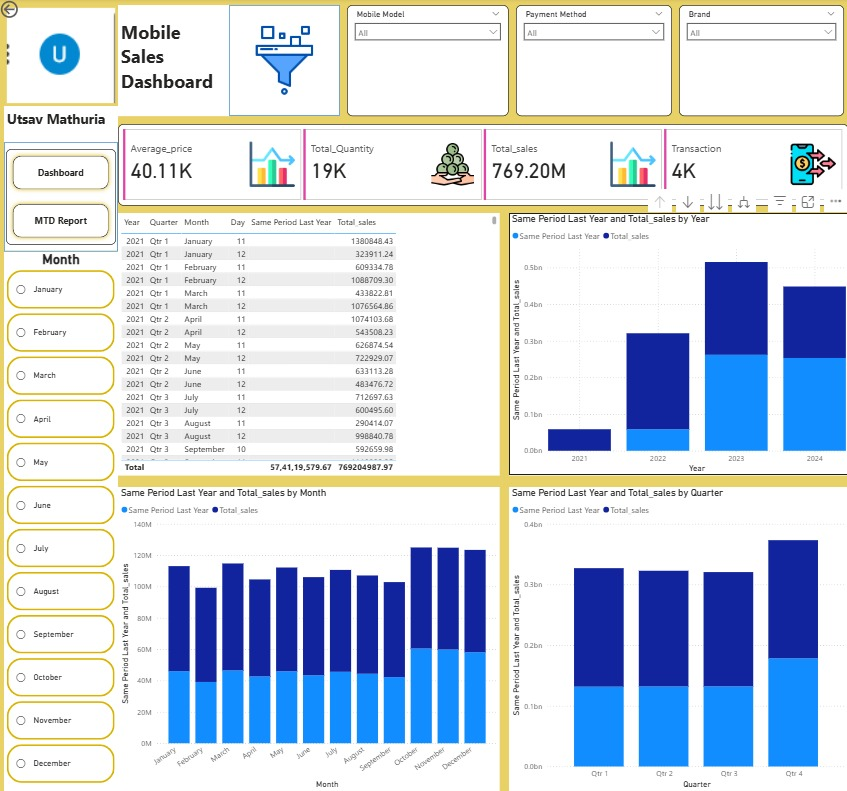

The dashboard page shown, as its layout file describes it:
{"tool":"powerbi","page":{"name":"Same Period Last Year","canvas":[1500,1400],"ordinal":2},"visuals":[{"type":"image","box":[10.8,12.6,201,177.6],"z":0},{"type":"textbox","box":[10.7,189.9,200.6,64.3],"z":1000},{"type":"shape","box":[10.7,254.2,200.6,192.9],"z":2000},{"type":"cardVisual","fields":{"Data":["Mobile_Sales_data.Average_price","Mobile_Sales_data.Total_Quantity","Mobile_Sales_data.Total_sales","Mobile_Sales_data.Transaction"]},"box":[211.7,222.5,1288.3,143.5],"z":3000},{"type":"textbox","box":[211.7,12.6,195.6,195.6],"z":4000},{"type":"shape","box":[407.3,12.6,195.6,195.6],"z":5000},{"type":"image","box":[428.8,43.1,152.5,134.6],"z":6000},{"type":"slicer","fields":{"Values":["Mobile_Sales_data.Mobile Model"]},"box":[615.4,12.6,285.3,195.6],"z":7000},{"type":"slicer","fields":{"Values":["Mobile_Sales_data.Payment Method"]},"box":[913.3,12.6,274.5,195.6],"z":8000},{"type":"slicer","fields":{"Values":["Mobile_Sales_data.Brand"]},"box":[1200.4,12.6,290.7,195.6],"z":9000},{"type":"advancedSlicerVisual","fields":{"Values":["Custom_Calender.Month"]},"box":[10.8,448.6,201,951],"z":10000},{"type":"tableEx","fields":{"Values":["Custom_Calender.Date.Variation.Date Hierarchy.Year","Custom_Calender.Date.Variation.Date Hierarchy.Quarter","Custom_Calender.Date.Variation.Date Hierarchy.Month","Custom_Calender.Date.Variation.Date Hierarchy.Day","Mobile_Sales_data.Same Period Last Year","Mobile_Sales_data.Total_sales"]},"box":[211.7,378.6,672.8,462.9],"z":11000},{"type":"actionButton","box":[0,0,100,40],"z":12000},{"type":"lineStackedColumnComboChart","fields":{"Category":["Custom_Calender.Date.Variation.Date Hierarchy.Year","Custom_Calender.Date.Variation.Date Hierarchy.Quarter","Custom_Calender.Date.Variation.Date Hierarchy.Month","Custom_Calender.Date.Variation.Date Hierarchy.Day"],"Y":["Mobile_Sales_data.Same Period Last Year","Mobile_Sales_data.Total_sales"]},"box":[900.7,378.6,599.3,462.9],"z":13000},{"type":"lineStackedColumnComboChart","fields":{"Category":["Custom_Calender.Date.Variation.Date Hierarchy.Month"],"Y":["Mobile_Sales_data.Same Period Last Year","Mobile_Sales_data.Total_sales"]},"box":[211.7,863,672.8,536.5],"z":14000},{"type":"lineStackedColumnComboChart","fields":{"Category":["Custom_Calender.Date.Variation.Date Hierarchy.Quarter"],"Y":["Mobile_Sales_data.Same Period Last Year","Mobile_Sales_data.Total_sales"]},"box":[900.7,863,599.3,536.5],"z":15000},{"type":"pageNavigator","box":[14.1,266.2,194,169.3],"z":16000}]}

Visuals, with their boxes on the page's 1500x1400 design canvas (x1, y1, x2, y2). These are canvas units, not pixel positions in the 847x791 screenshot, which may show the page scaled, cropped or inside an application window:
image: [left=11, top=13, right=212, bottom=190]
textbox: [left=11, top=190, right=211, bottom=254]
shape: [left=11, top=254, right=211, bottom=447]
cardVisual - Mobile_Sales_data.Average_price x Mobile_Sales_data.Total_Quantity: [left=212, top=222, right=1500, bottom=366]
textbox: [left=212, top=13, right=407, bottom=208]
shape: [left=407, top=13, right=603, bottom=208]
image: [left=429, top=43, right=581, bottom=178]
slicer - Mobile_Sales_data.Mobile Model: [left=615, top=13, right=901, bottom=208]
slicer - Mobile_Sales_data.Payment Method: [left=913, top=13, right=1188, bottom=208]
slicer - Mobile_Sales_data.Brand: [left=1200, top=13, right=1491, bottom=208]
advancedSlicerVisual - Custom_Calender.Month: [left=11, top=449, right=212, bottom=1400]
tableEx - Custom_Calender.Date.Variation.Date Hierarchy.Year x Custom_Calender.Date.Variation.Date Hierarchy.Quarter: [left=212, top=379, right=884, bottom=842]
actionButton: [left=0, top=0, right=100, bottom=40]
lineStackedColumnComboChart - Custom_Calender.Date.Variation.Date Hierarchy.Year x Custom_Calender.Date.Variation.Date Hierarchy.Quarter: [left=901, top=379, right=1500, bottom=842]
lineStackedColumnComboChart - Custom_Calender.Date.Variation.Date Hierarchy.Month x Mobile_Sales_data.Same Period Last Year: [left=212, top=863, right=884, bottom=1400]
lineStackedColumnComboChart - Custom_Calender.Date.Variation.Date Hierarchy.Quarter x Mobile_Sales_data.Same Period Last Year: [left=901, top=863, right=1500, bottom=1400]
pageNavigator: [left=14, top=266, right=208, bottom=436]
